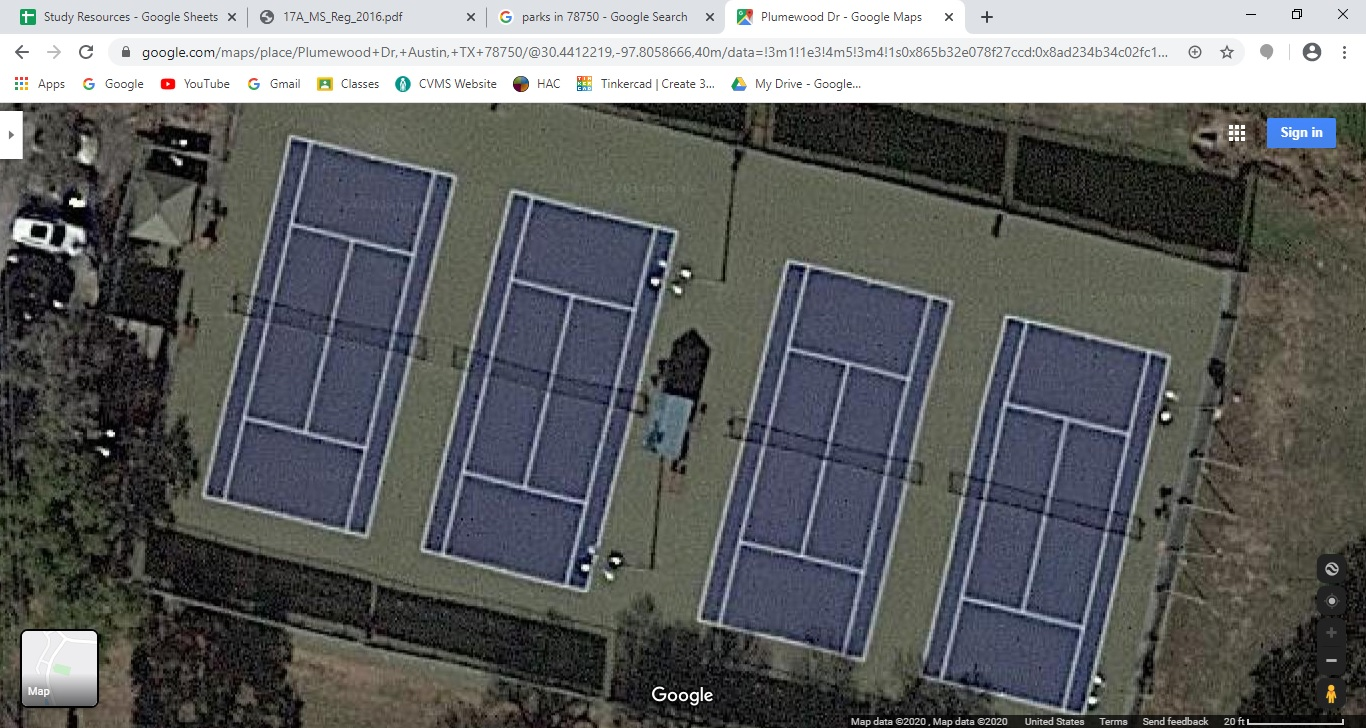tennis: (961, 304, 1175, 710), (251, 110, 414, 538), (767, 252, 902, 674)
